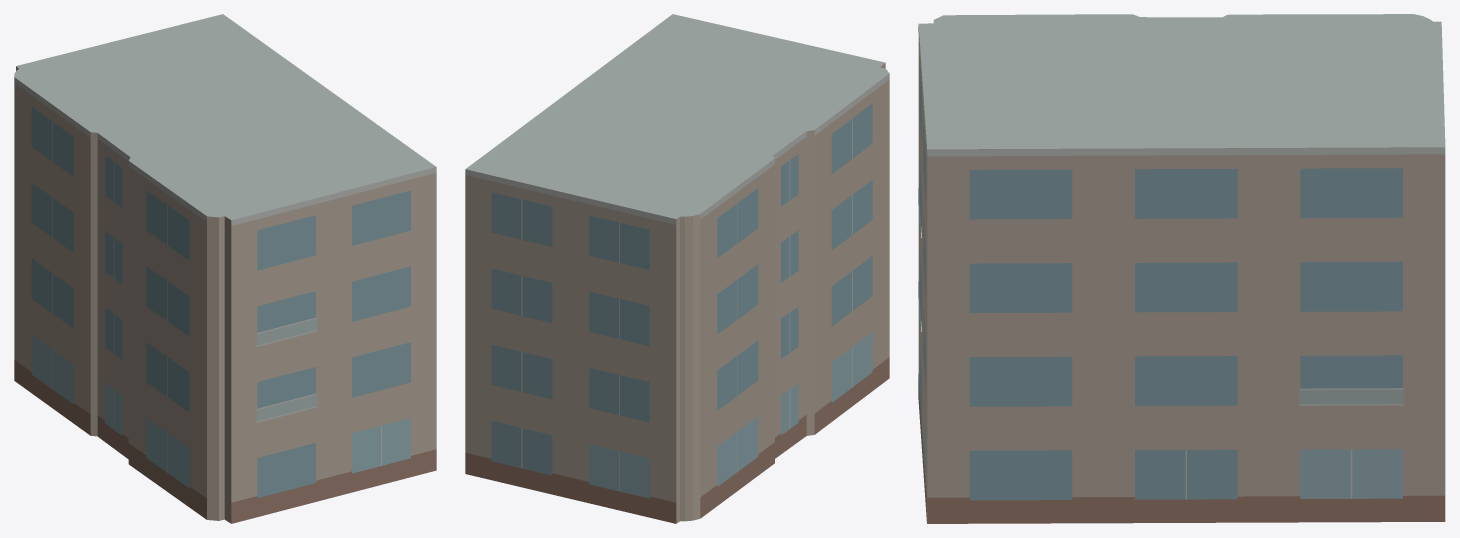
The model's file is survey-upis-32610028.glb.
3 views of the same model, side by side, from view 1: azimuth 30°, elevation 25°; view 2: azimuth 150°, elevation 25°; view 3: azimuth 270°, elevation 25° (orthographic). The views are drawn at different scales.
Parts seen in each view (by area): view 1: survey-upis-32610028.tmp; view 2: survey-upis-32610028.tmp; view 3: survey-upis-32610028.tmp.
Part boxes in pixels (x1,y1,x2,y2): survey-upis-32610028.tmp: [14, 14, 436, 523]; survey-upis-32610028.tmp: [465, 14, 889, 523]; survey-upis-32610028.tmp: [918, 14, 1445, 523].
Bounding box in the file's own units: 10 × 12.9 × 16.46.
